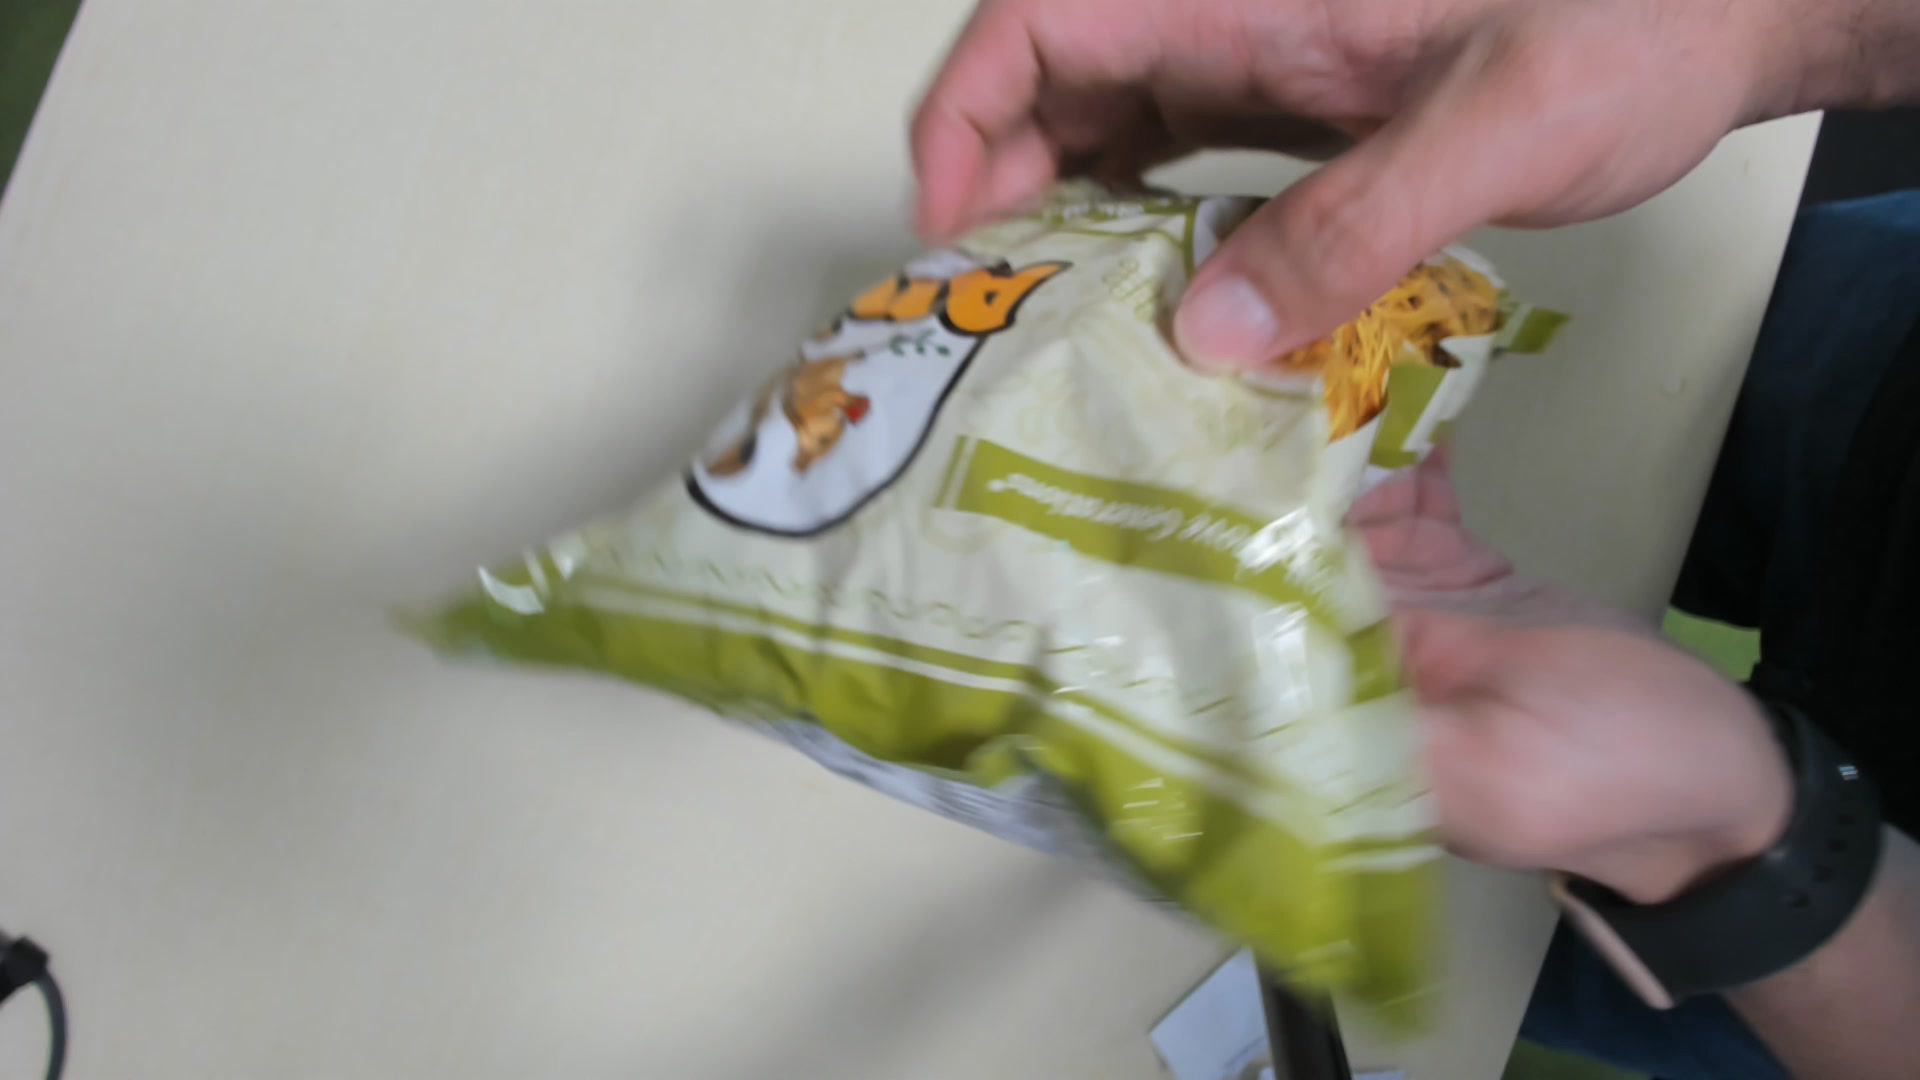BeeHoonVermicelli_200-299g_NonHalal_NonHealthy: (448, 170, 1581, 972)
